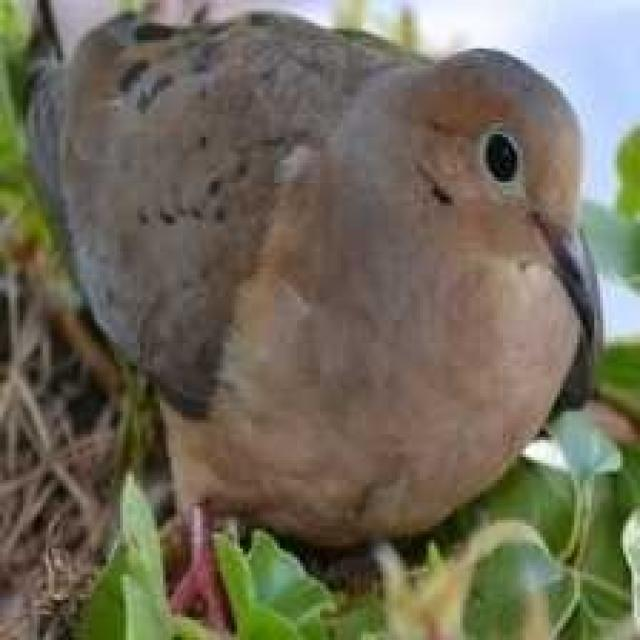dove: (16, 2, 610, 631)
